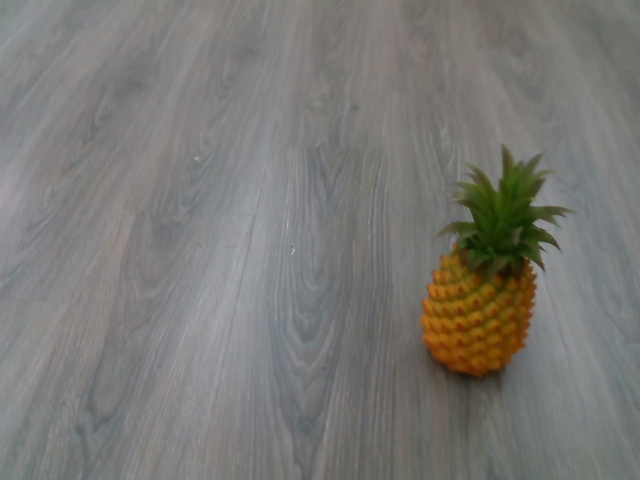pineapple: (416, 146, 575, 381)
